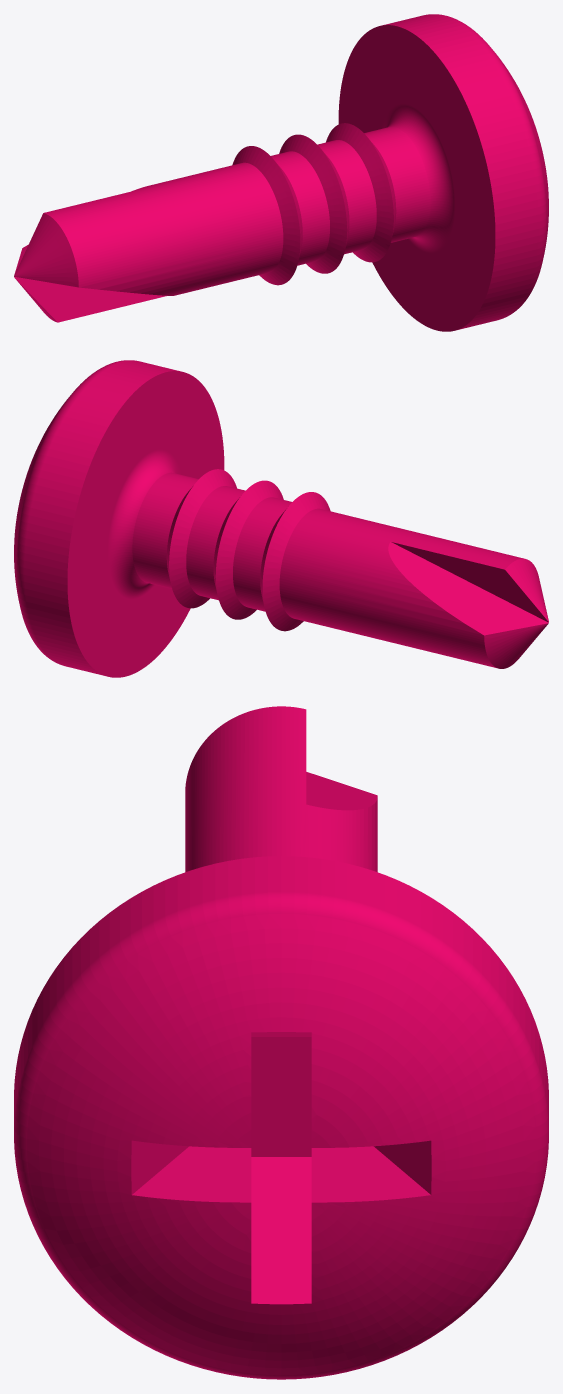
The model's file is DrillScrew.gltf.
The picture shows the model from 3 angles, top to bottom: view 1: azimuth 30°, elevation 25°; view 2: azimuth 150°, elevation 25°; view 3: azimuth 270°, elevation 25°; orthographic projection. The views are drawn at different scales.
Parts seen in each view (by area): view 1: Node1; view 2: Node1; view 3: Node1.
Boxes of the visible parts, bbox=[...] form: Node1: bbox=[14, 14, 548, 331]; Node1: bbox=[14, 360, 548, 677]; Node1: bbox=[14, 706, 548, 1379].
Bounding box in the file's own units: 16.84 × 9.25 × 9.25.
